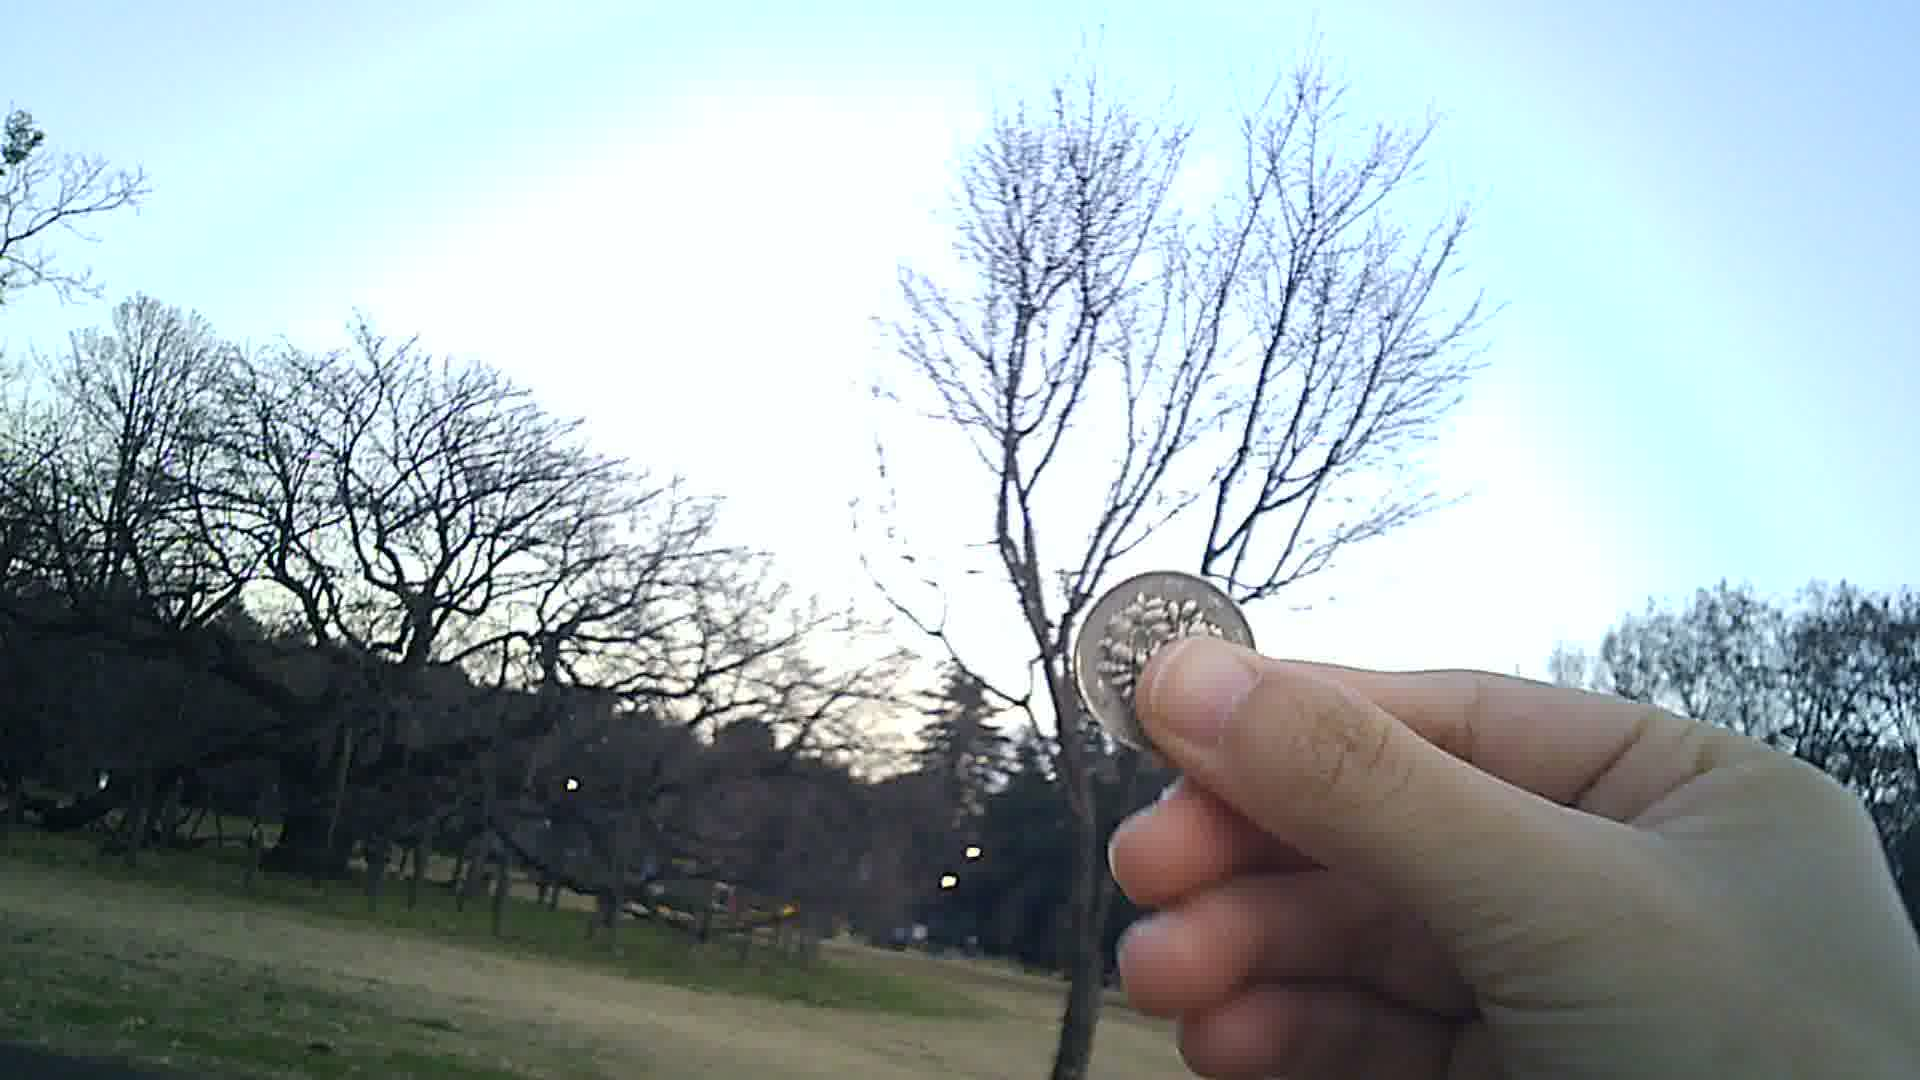100 Yen: (1065, 568, 1274, 767)
